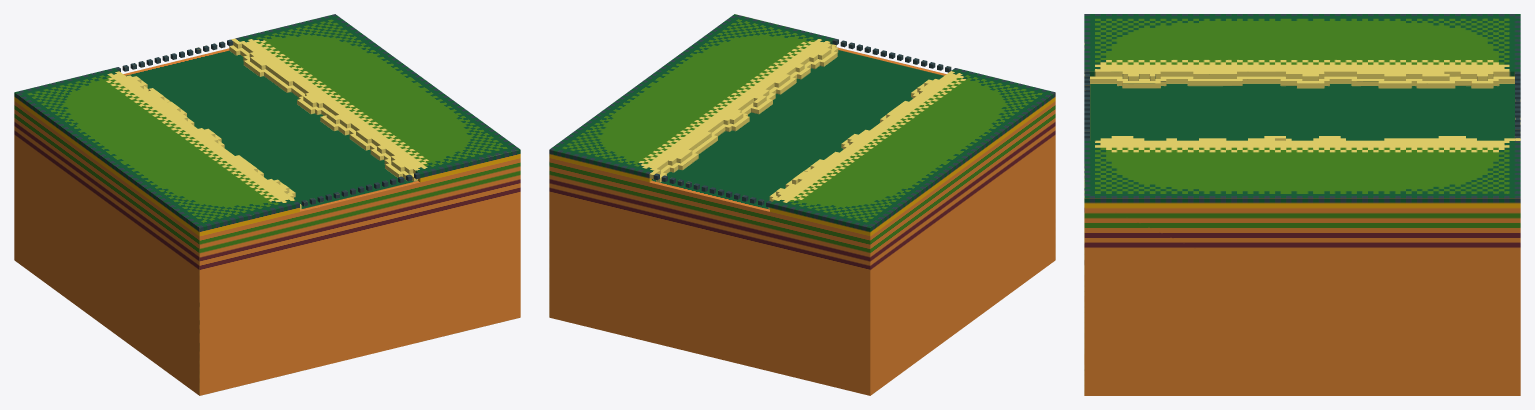
File: river_1_tile.glb
The picture shows the model from 3 angles, left to right: view 1: azimuth 30°, elevation 25°; view 2: azimuth 150°, elevation 25°; view 3: azimuth 270°, elevation 25°; orthographic projection. The views are drawn at different scales.
Parts seen in each view (by area): view 1: river_1_tile; view 2: river_1_tile; view 3: river_1_tile.
Part boxes in pixels (bbox=[...]): river_1_tile: bbox=[14, 14, 520, 395]; river_1_tile: bbox=[549, 14, 1055, 395]; river_1_tile: bbox=[1084, 14, 1520, 395].
Bounding box in the file's own units: 8 × 4 × 8.
1 material, 1 textured.
